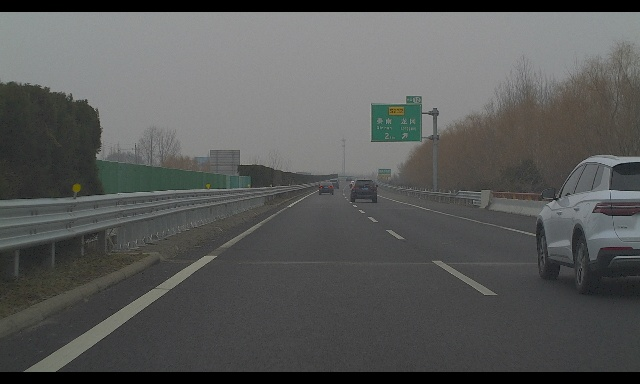car: (536, 154, 640, 294), (349, 178, 379, 203), (319, 182, 334, 195), (329, 179, 339, 189), (349, 181, 358, 188)
